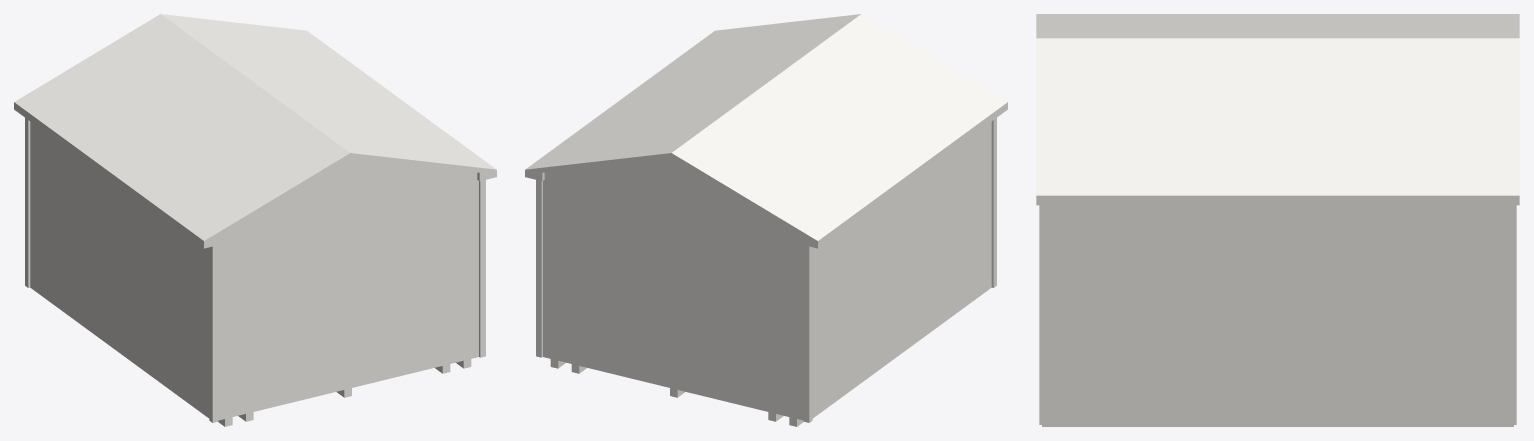
File: 8 wide A-frame_7ft_12x14.obj
3 renders of one model, left to right at view 1: azimuth 30°, elevation 25°; view 2: azimuth 150°, elevation 25°; view 3: azimuth 270°, elevation 25°, orthographic. The views are drawn at different scales.
Visible parts, largest first — view 1: Shed, Roof, Trim, Sides, Floor; view 2: Shed, Roof, Trim, Sides, Floor; view 3: Shed, Roof, Sides, Trim, Floor.
Boxes of the visible parts, <box> form: Shed: <box>30,121,478,420</box>; Roof: <box>14,14,496,240</box>; Trim: <box>25,118,485,422</box>; Sides: <box>14,102,496,248</box>; Floor: <box>218,359,471,426</box>; Shed: <box>543,121,991,420</box>; Roof: <box>525,14,1007,240</box>; Trim: <box>536,118,996,422</box>; Sides: <box>525,102,1007,248</box>; Floor: <box>550,359,803,426</box>; Shed: <box>1047,205,1508,423</box>; Roof: <box>1036,14,1519,195</box>; Sides: <box>1036,195,1519,205</box>; Trim: <box>1039,205,1516,424</box>; Floor: <box>1042,424,1513,426</box>.
Size of the model in its own units: 3.89 by 3.12 by 4.37.
